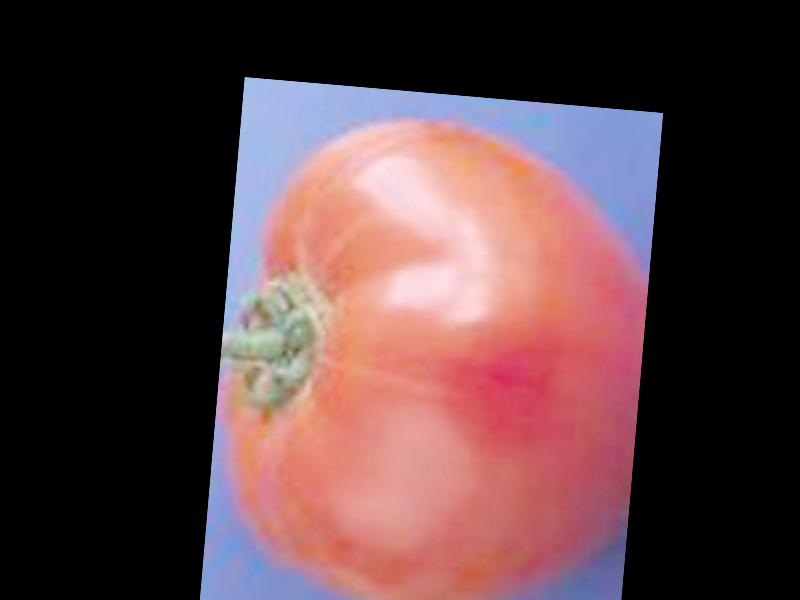Tomato: (203, 105, 657, 600)
